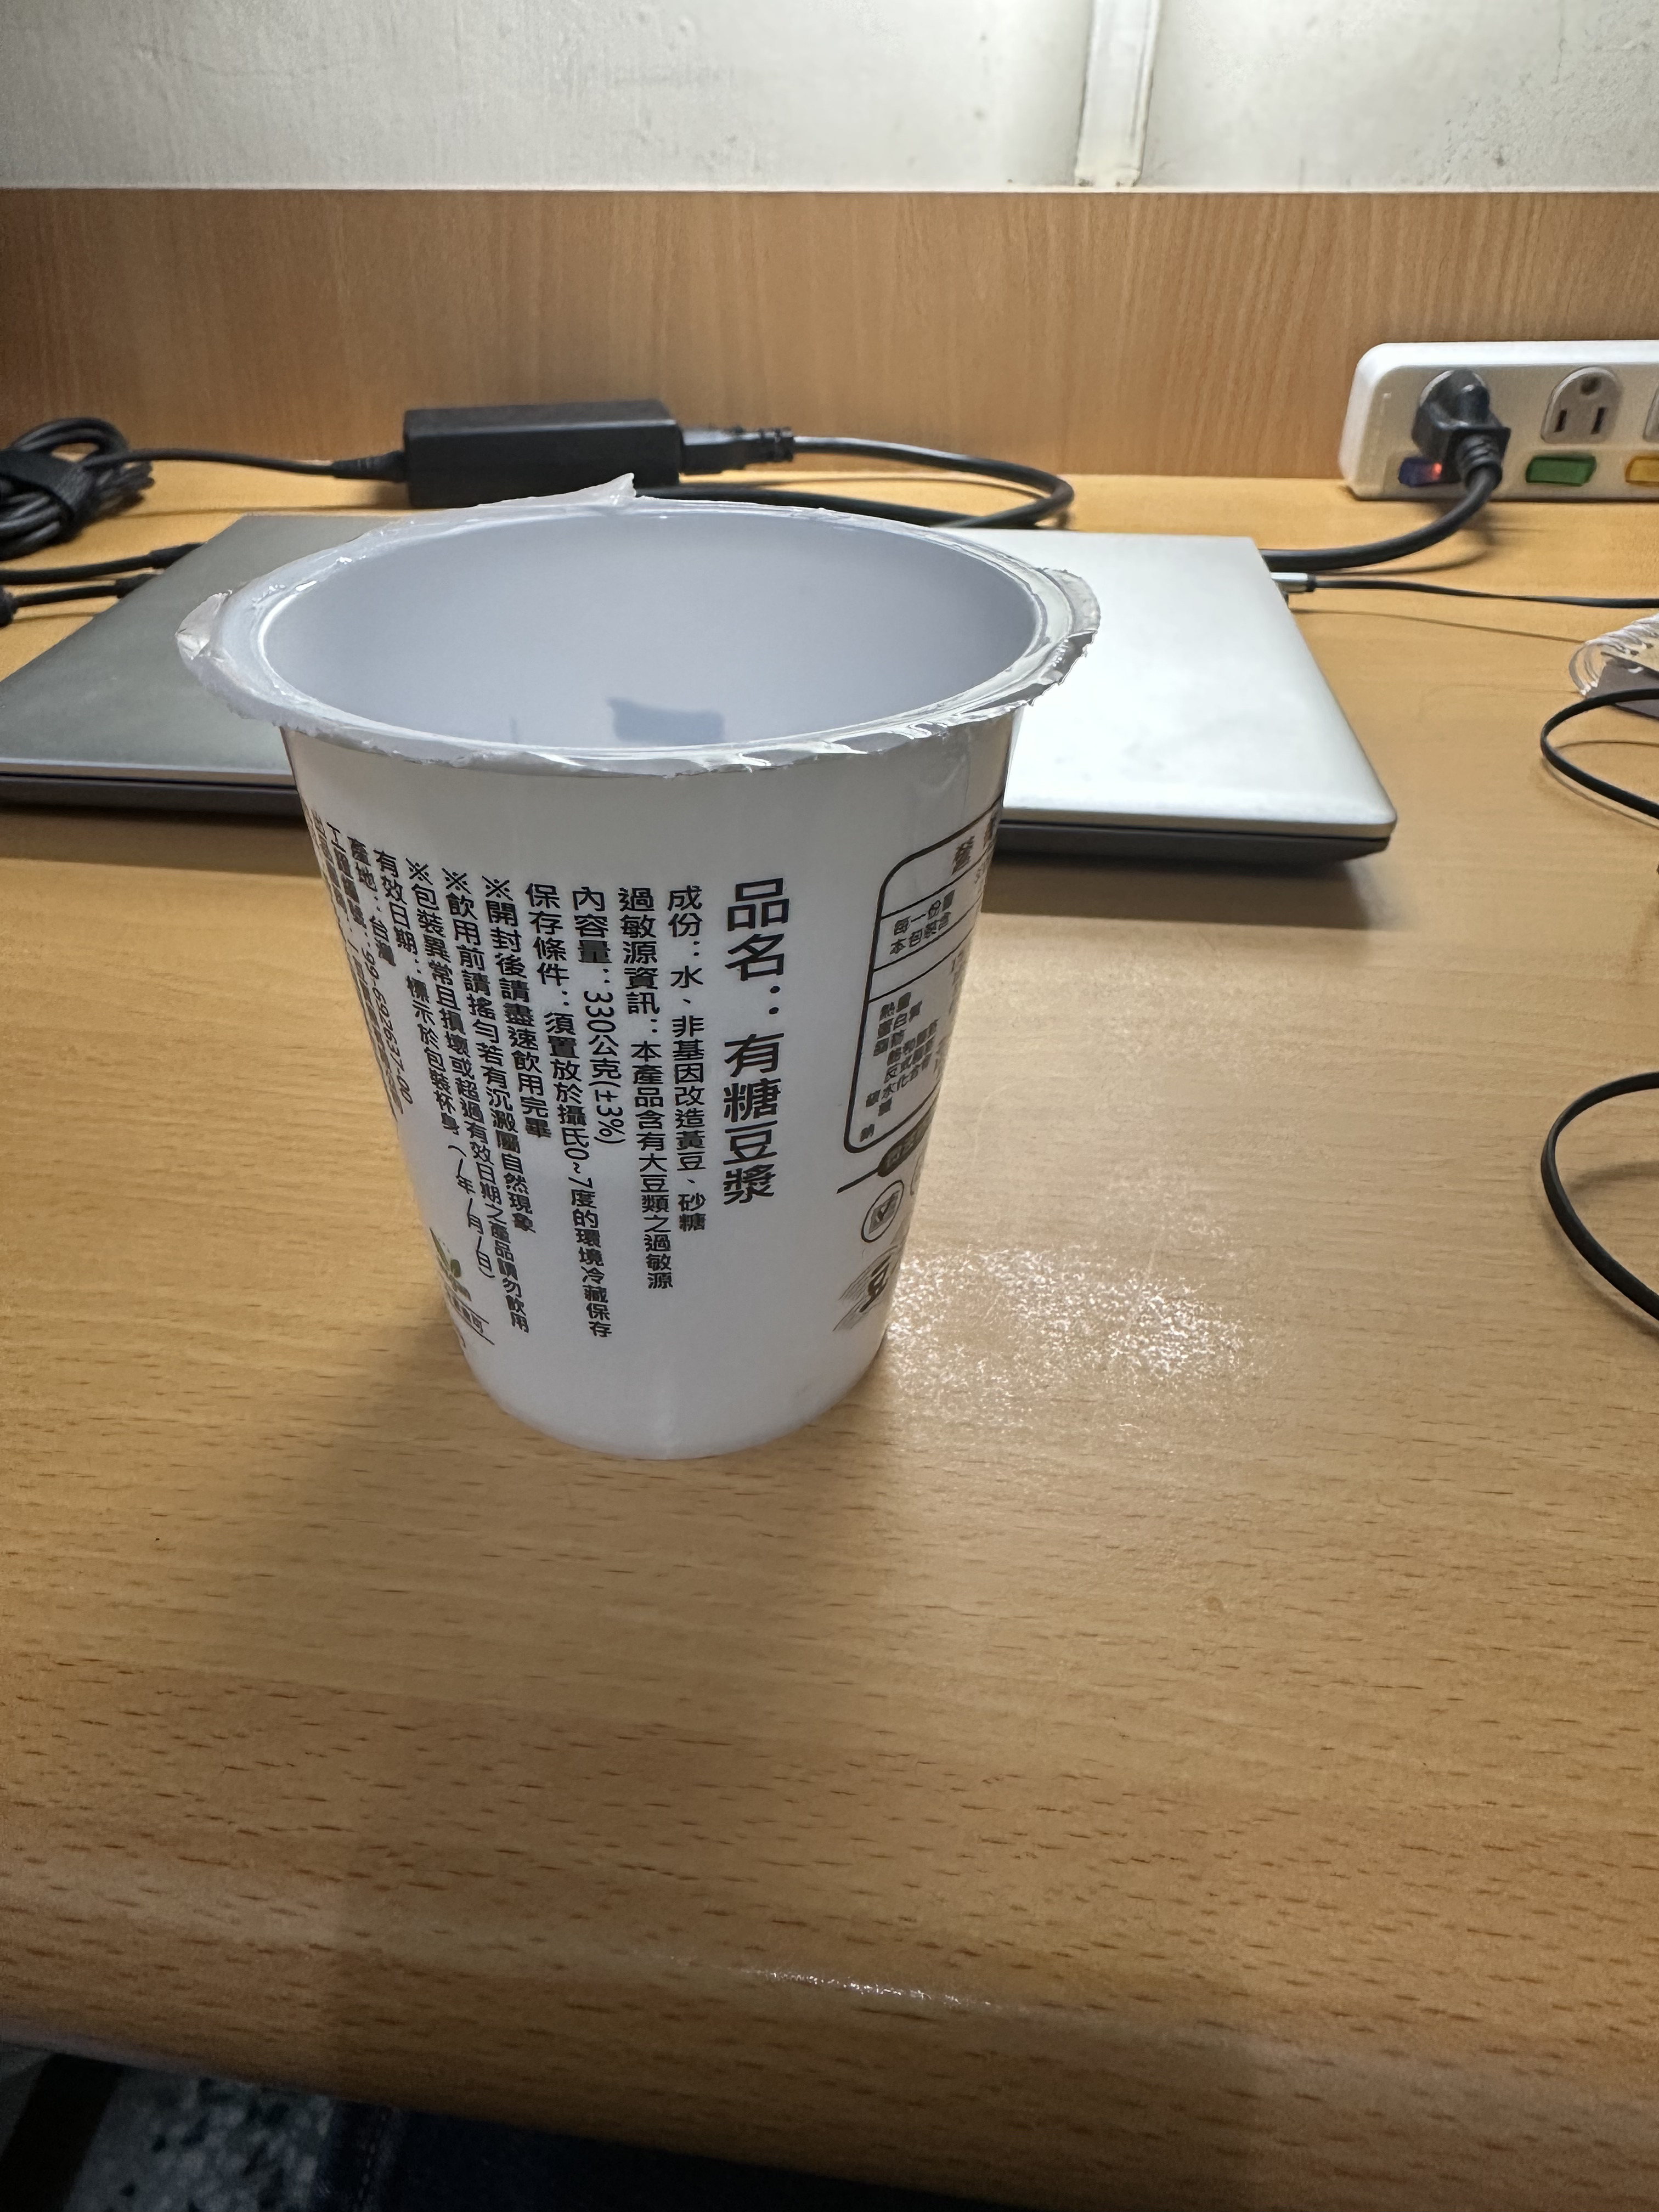cup: (173, 467, 1103, 1456)
